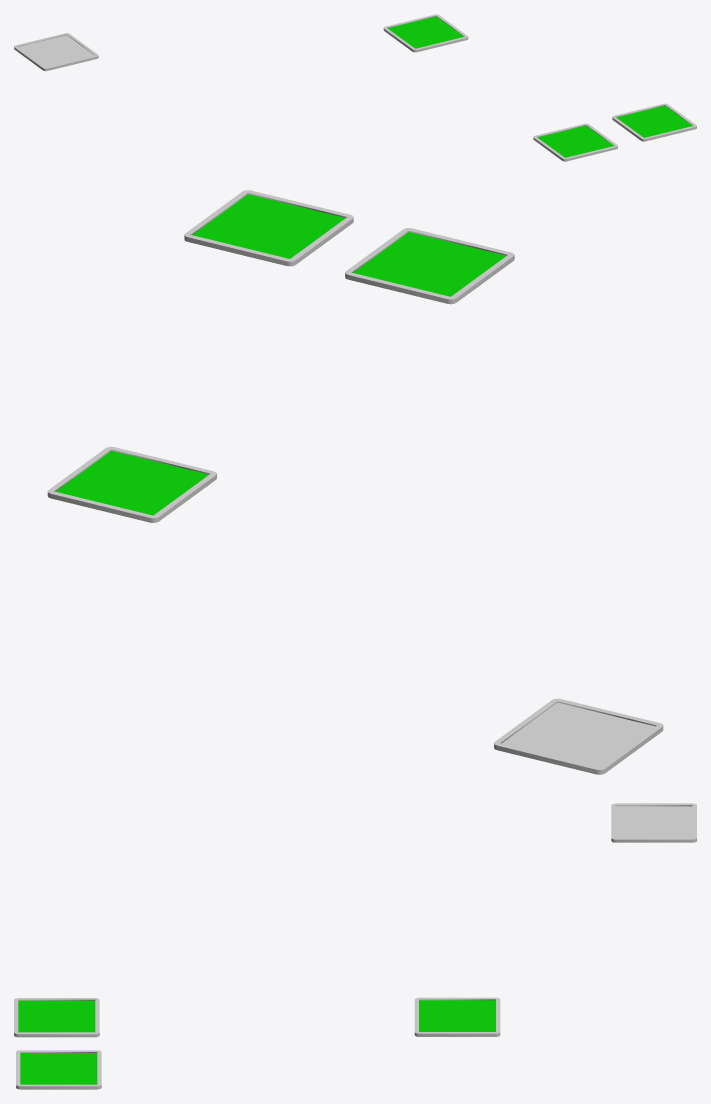
Rendered from road_platforms_2_m.fbx.
3 views of the same model, one above another, from view 1: azimuth 30°, elevation 25°; view 2: azimuth 150°, elevation 25°; view 3: azimuth 270°, elevation 25° (orthographic). The views are drawn at different scales.
Parts seen in each view (by area): view 1: road_mesh_platforms_2; view 2: road_mesh_platforms_2; view 3: road_mesh_platforms_2.
Part boxes in pixels (box(x1,y1,x2,y2)): road_mesh_platforms_2: box(14, 14, 696, 161); road_mesh_platforms_2: box(47, 190, 663, 774); road_mesh_platforms_2: box(14, 803, 696, 1089).
Size of the model in its own units: 10951 by 57.31 by 11174.
